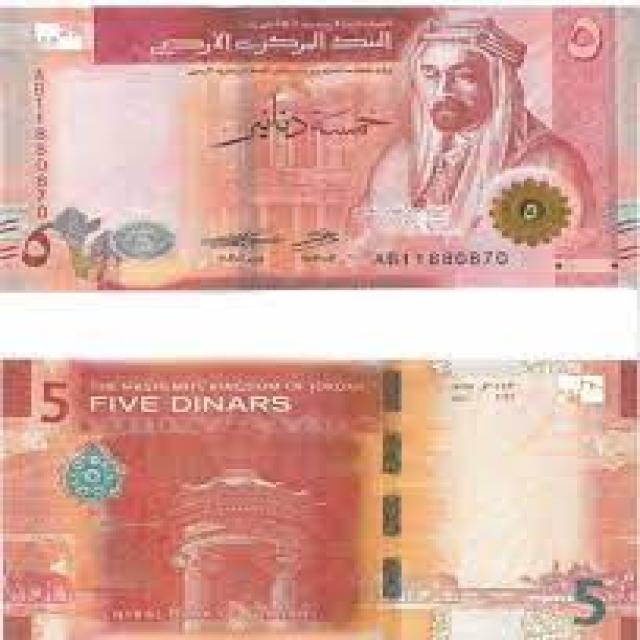5-dinar: (0, 3, 640, 292), (0, 359, 640, 639)
